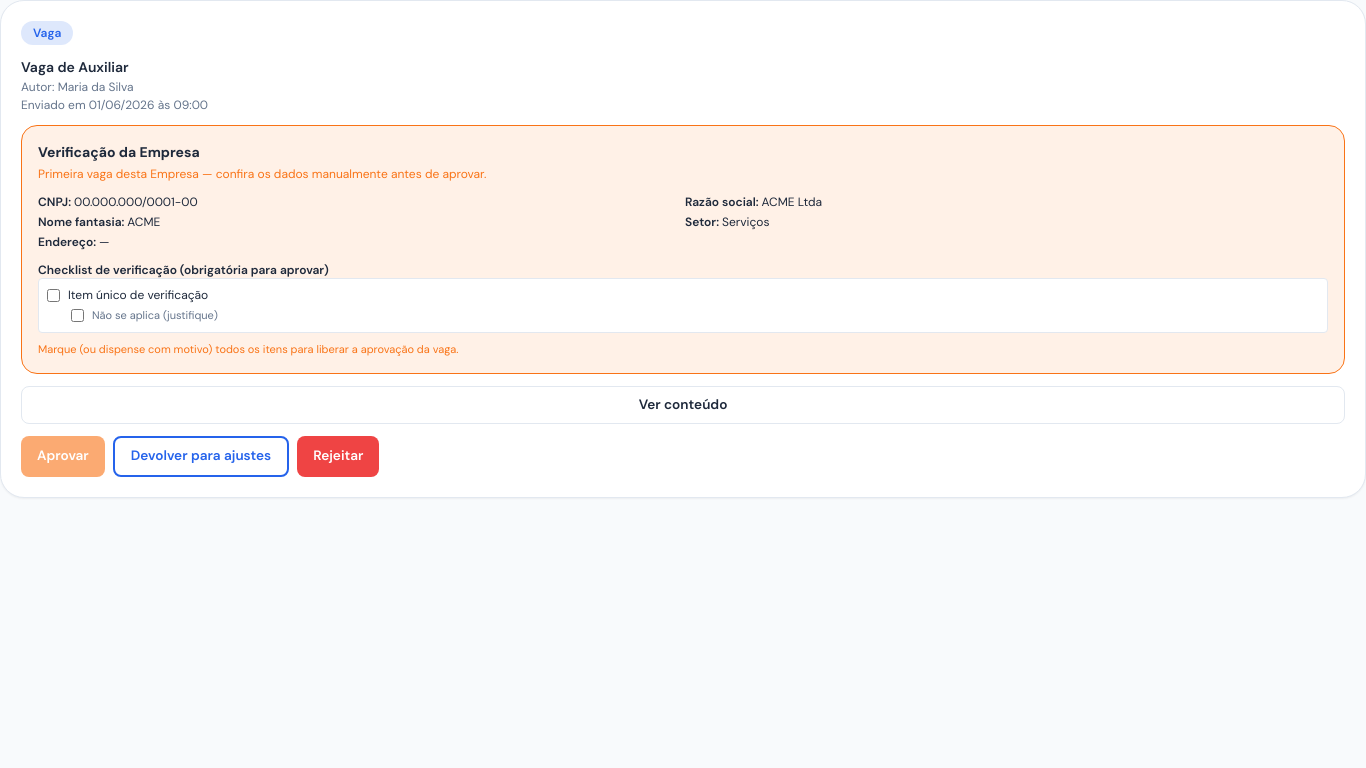
Test: ModerationQueue › USP-066/A3 (PR#294 achado): gate combinado — checklist da USP-017 + conteúdo carregado › conteúdo carregado + checklist concluída ⇒ Aprovar habilita
Click the button "Ver conteúdo".
click(683, 405)  # box [21, 386, 1345, 424]
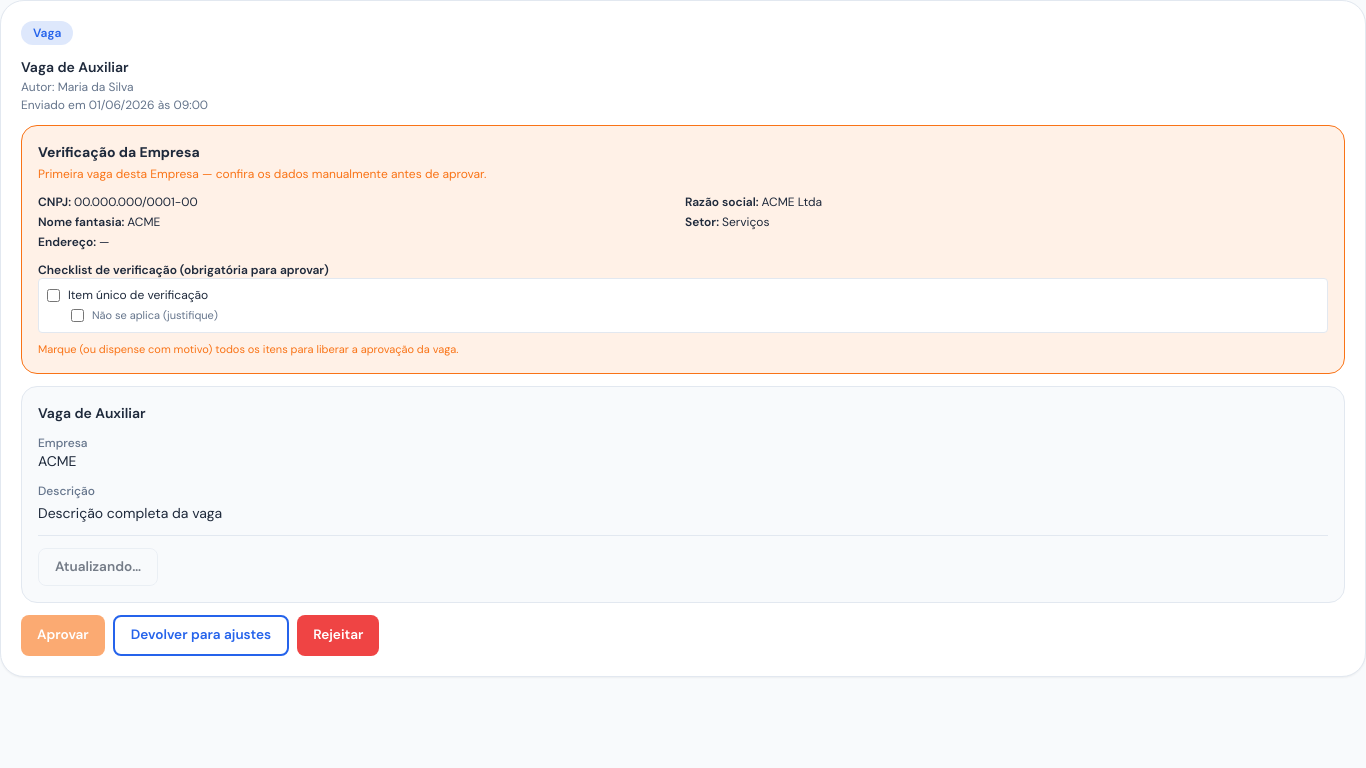
Expected: the text "ACME" next to "Nome fantasia" is shown, [127, 214, 160, 230]
Click the checkbox labelled "Item único de verificação".
click(54, 296)  # box [47, 289, 60, 302]
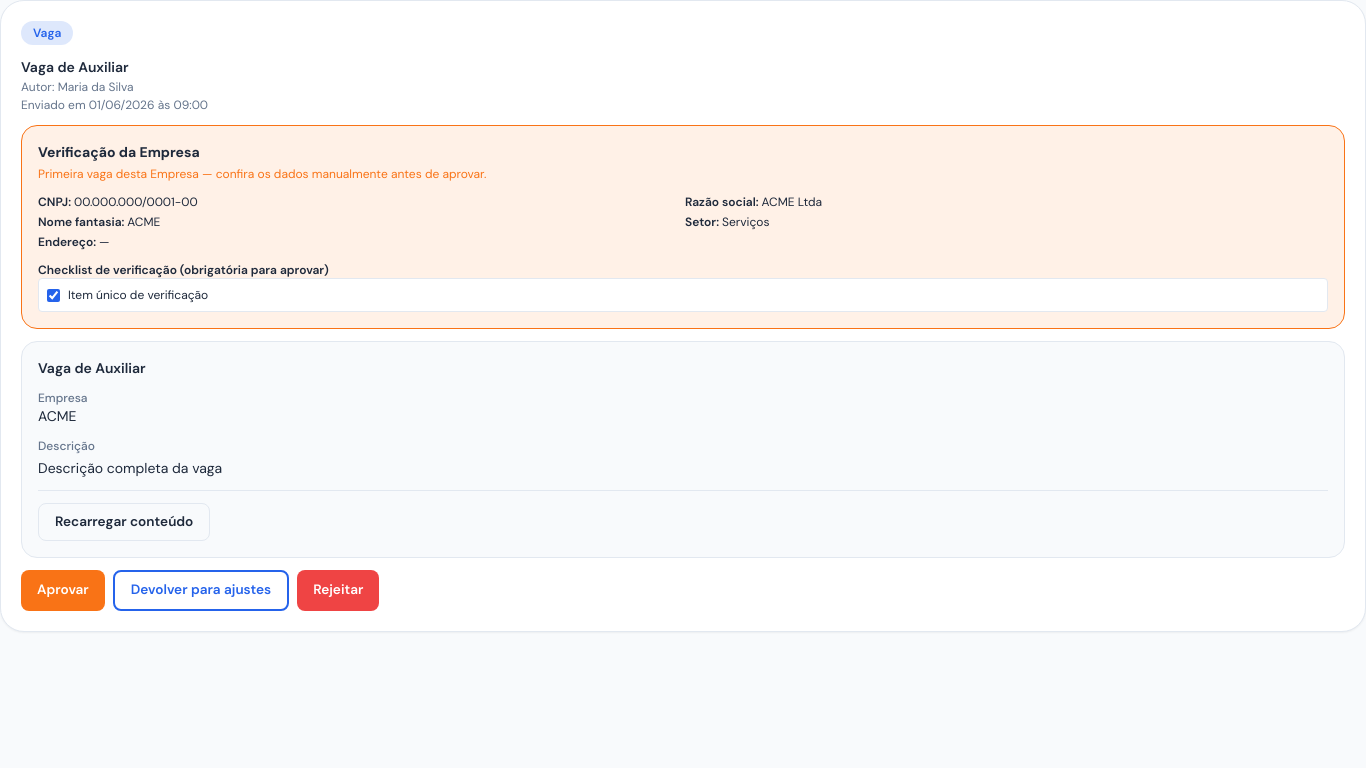
Now the button "Aprovar" is enabled, box [21, 570, 105, 611]
